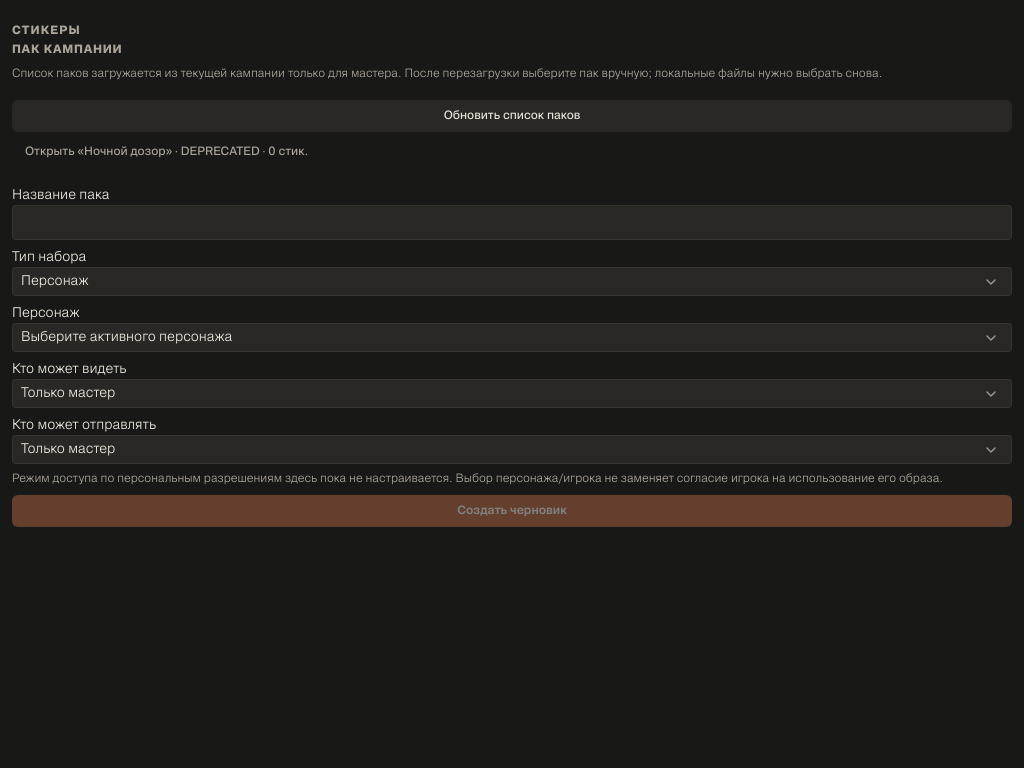
Test: StickerPackManager › shows deprecated packs as read-only and offers a new-pack path
The width and height of the screenshot is (1024, 768).
Click the button "Открыть «Ночной дозор» · DEPRECATED · 0 стик." at x=167, y=152, box [12,136,321,168]
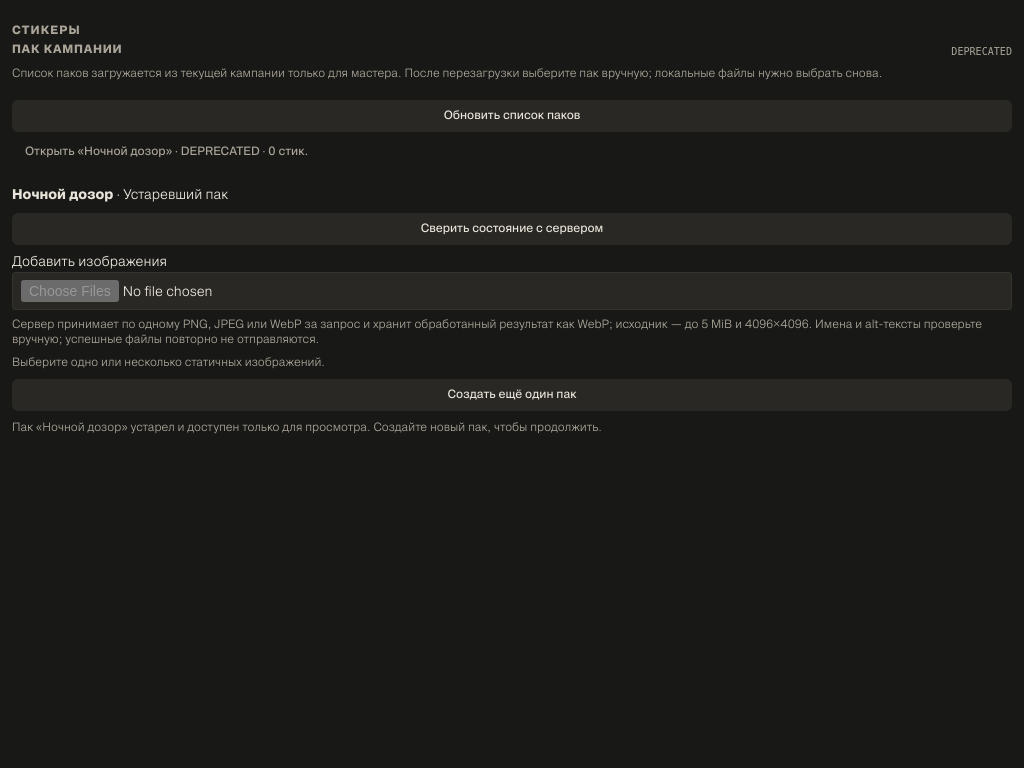
Check: the text "устарел и доступен только для просмотра" is shown, box [12,423,602,433]
Check: the element named "Устаревший пак Ночной дозор" is shown, box [12,186,1012,411]
Click the button "Создать ещё один пак" at x=512, y=395, box [12,379,1012,411]
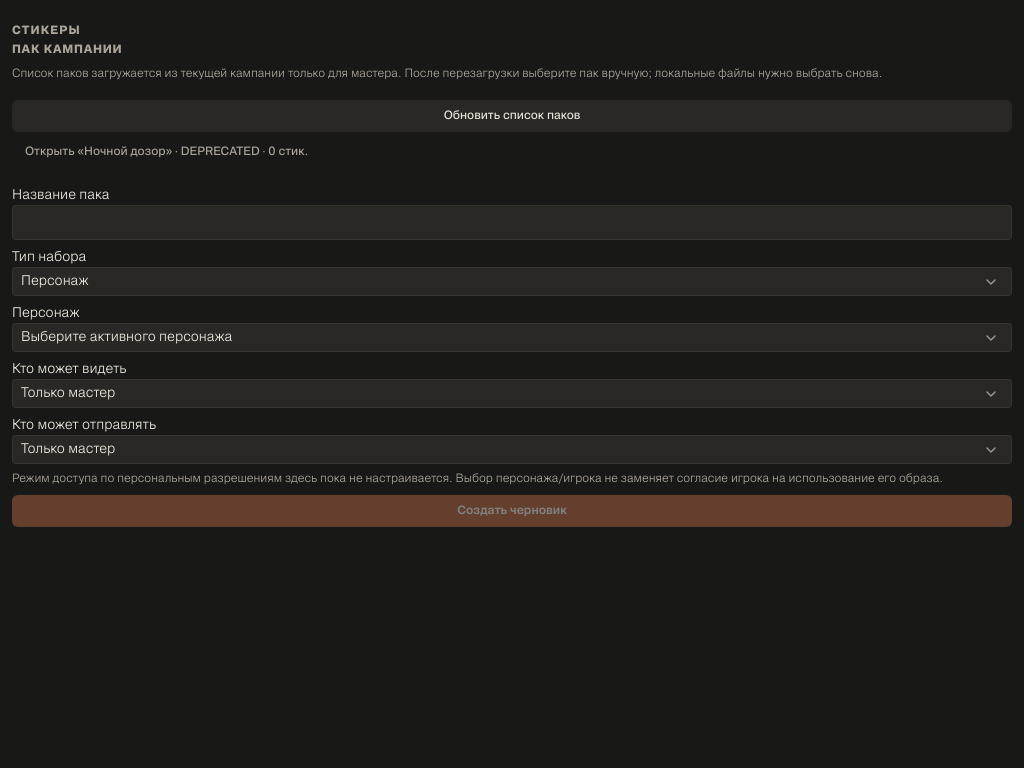
Type "Ночной дозор" into the field labelled "Название пака" at x=512, y=223, box [12,205,1012,240]
Select "NPC" in the dropdown labelled "Тип набора" at x=512, y=282, box [12,267,1012,296]
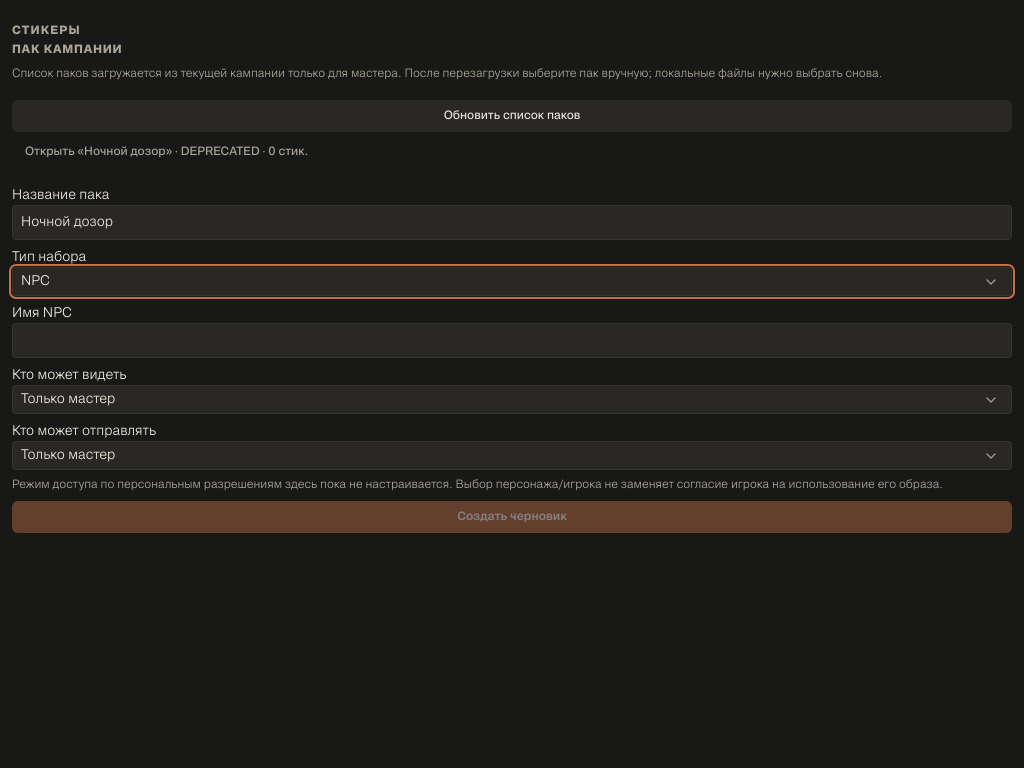
Type "Смотритель" into the field labelled "Имя NPC" at x=512, y=341, box [12,323,1012,358]
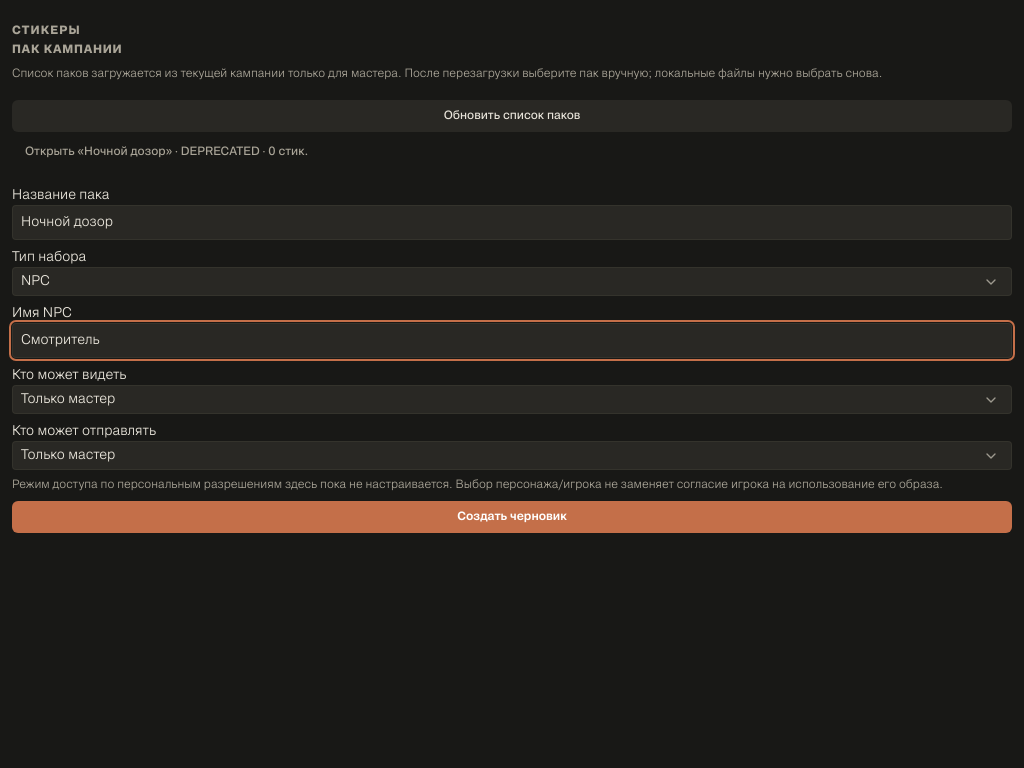
Replace the text in the field labelled "Название пака" with "Свежий пак" at x=512, y=223, box [12,205,1012,240]
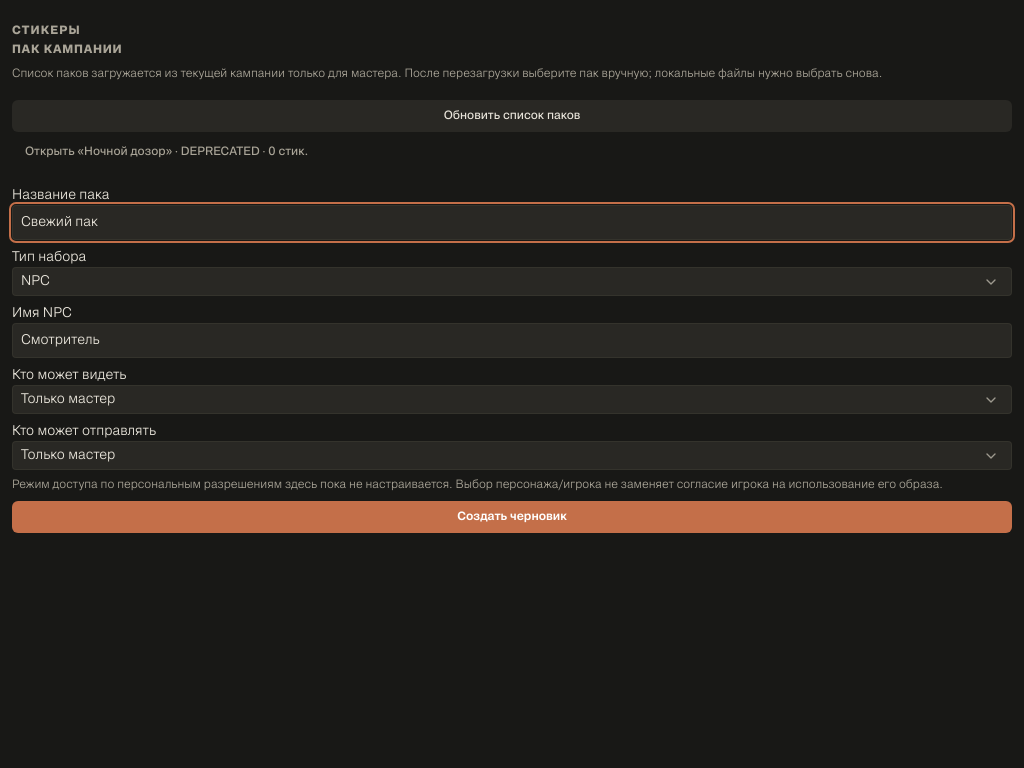
Click the button "Создать черновик" at x=512, y=517, box [12,501,1012,533]
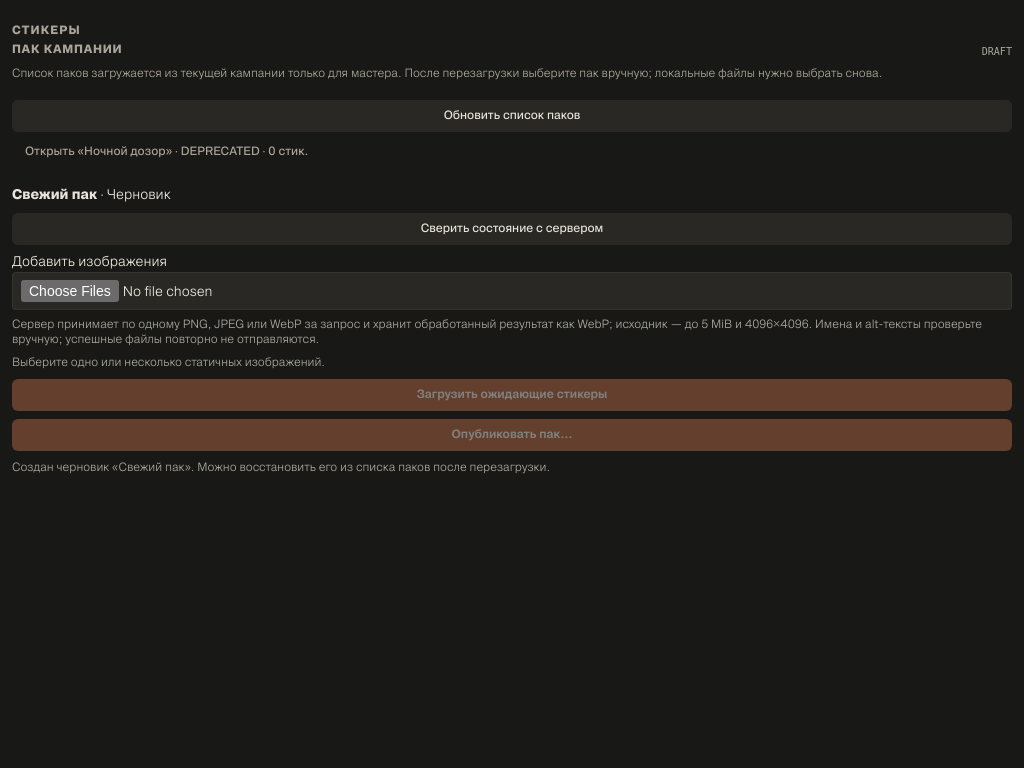
Check: the element named "Черновик Свежий пак" is shown, box [12,186,1012,451]
